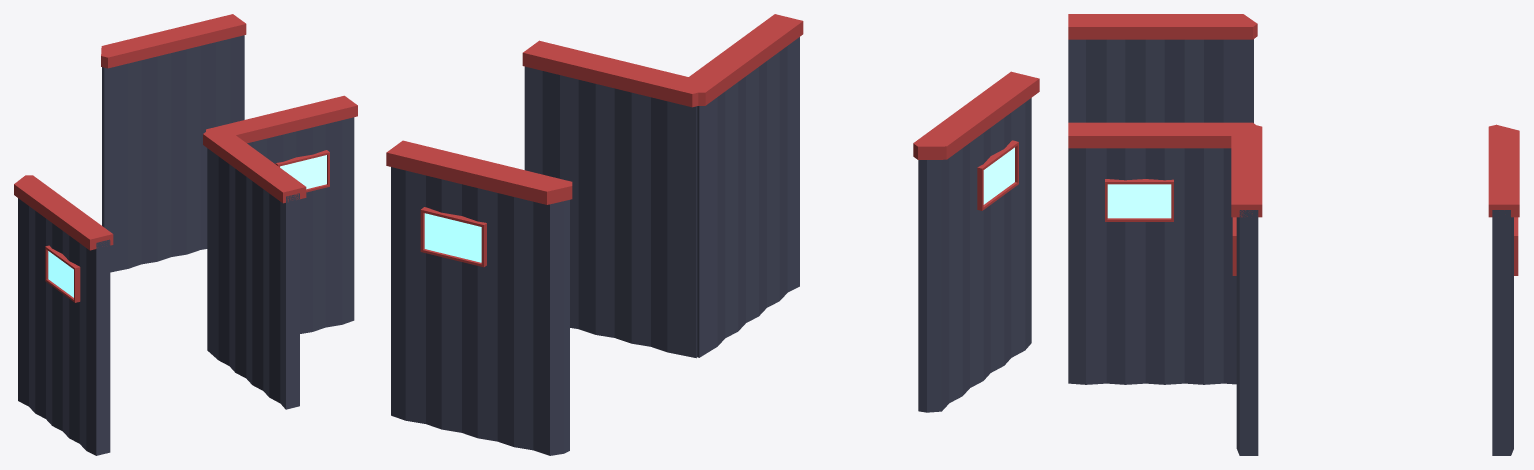
The model's file is warehouseXS.fbx.
3 views of the same model, side by side, from view 1: azimuth 30°, elevation 25°; view 2: azimuth 150°, elevation 25°; view 3: azimuth 270°, elevation 25° (orthographic). The views are drawn at different scales.
Visible parts, largest first — view 1: WarehouseInnerWall, WarehouseInnerWall.001, WarehouseAntiInnerWall.001, WarehouseAntiInnerWall; view 2: WarehouseInnerWall, WarehouseAntiInnerWall, WarehouseAntiInnerWall.001, WarehouseInnerWall.001; view 3: WarehouseInnerWall.001, WarehouseAntiInnerWall.001, WarehouseAntiInnerWall, WarehouseInnerWall.
Boxes of the visible parts, bbox=[...] form: WarehouseInnerWall: bbox=[101, 14, 246, 272]; WarehouseInnerWall.001: bbox=[203, 132, 306, 409]; WarehouseAntiInnerWall.001: bbox=[14, 175, 113, 455]; WarehouseAntiInnerWall: bbox=[206, 95, 357, 333]; WarehouseInnerWall: bbox=[386, 140, 572, 455]; WarehouseAntiInnerWall: bbox=[522, 40, 700, 358]; WarehouseAntiInnerWall.001: bbox=[913, 71, 1039, 412]; WarehouseInnerWall.001: bbox=[689, 14, 803, 357]; WarehouseInnerWall.001: bbox=[1068, 122, 1255, 384]; WarehouseAntiInnerWall.001: bbox=[1068, 14, 1257, 122]; WarehouseAntiInnerWall: bbox=[1231, 124, 1262, 455]; WarehouseInnerWall: bbox=[1488, 124, 1519, 455].
Size of the model in its own units: 325 by 200 by 325.
